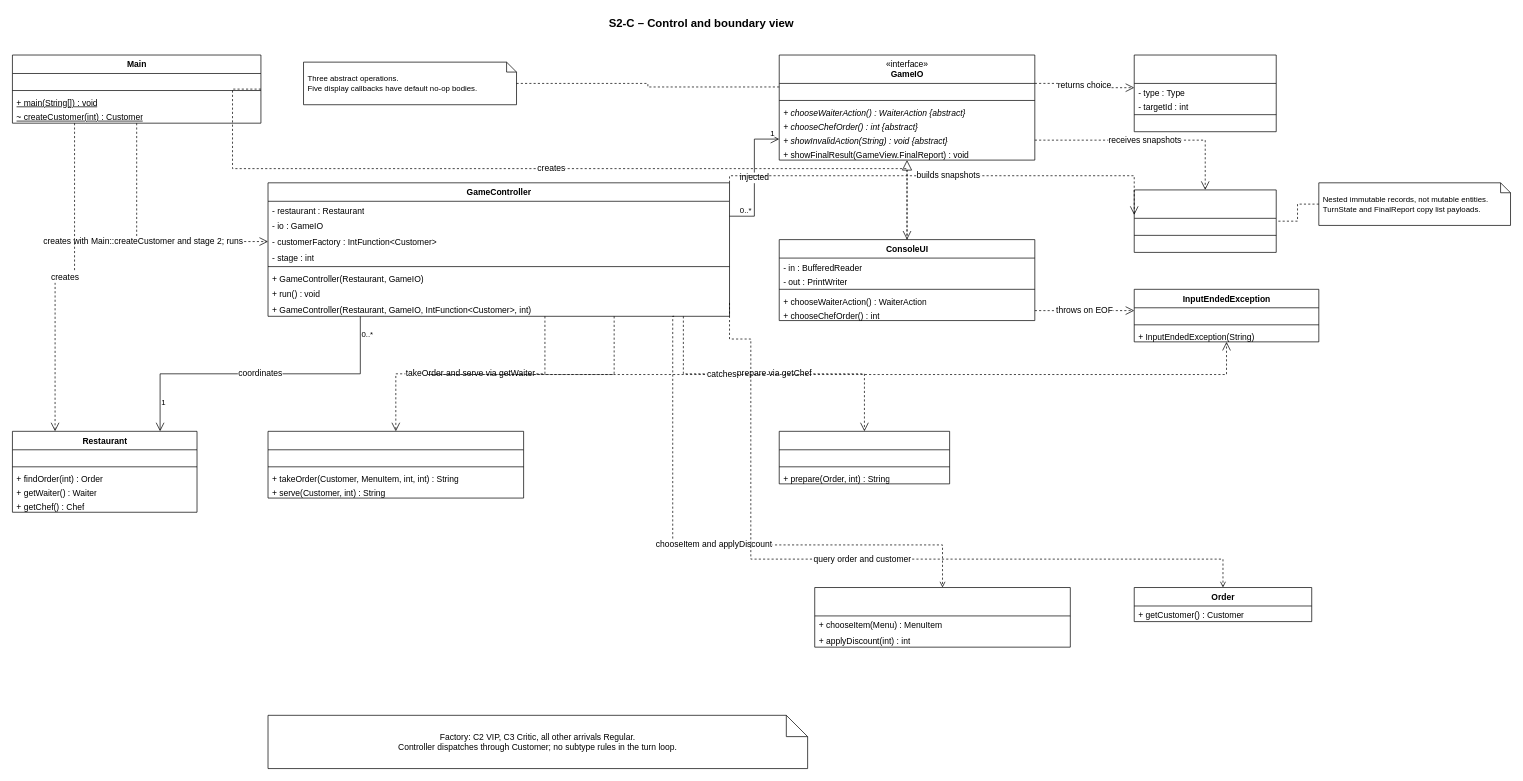
The diagram is 1523 pixels wide and 781 high, and some of its shapes have lost their labels. The shapes that lost their labels are listed below. From the top down, each one's box as (x1, y1, x2, y2) in pixels, then its label:
(1134, 54, 1276, 132): «record» WaiterAction
(1134, 189, 1276, 252): «utility» GameView
(267, 431, 524, 498): Waiter
(779, 431, 950, 484): Chef
(814, 587, 1070, 647): Customer {abstract}
